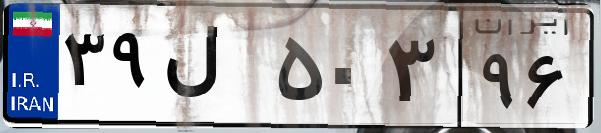0: (330, 28, 385, 110)
3: (385, 28, 445, 110), (57, 26, 110, 100)
5: (270, 28, 330, 110)
6: (525, 38, 570, 115)
9: (475, 38, 525, 113), (110, 28, 158, 98)
ل: (158, 20, 270, 120)
